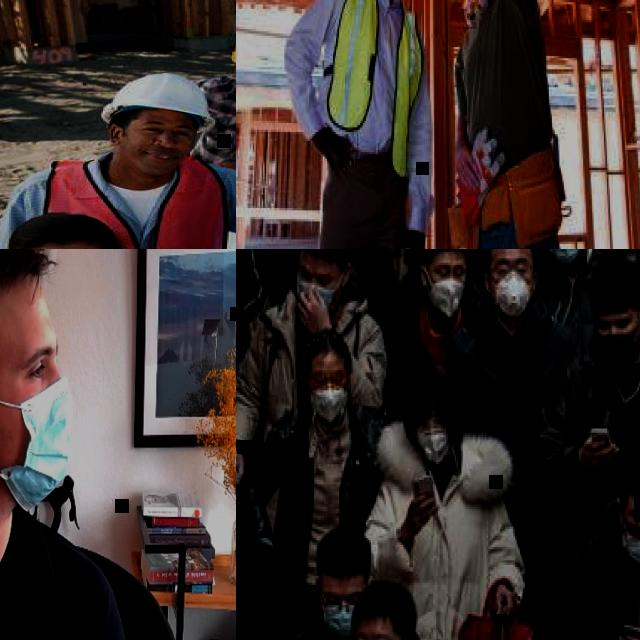Hardhat: (102, 70, 217, 134)
Mask: (0, 377, 74, 513), (488, 272, 534, 320), (593, 327, 640, 365), (294, 279, 339, 315), (424, 276, 464, 316), (310, 386, 350, 424), (320, 600, 356, 638), (417, 432, 449, 466), (548, 249, 584, 265), (625, 533, 640, 571)
NO-Hardhat: (0, 249, 52, 344), (9, 214, 117, 249), (355, 582, 422, 630), (314, 528, 372, 582), (587, 258, 640, 314), (403, 360, 455, 416), (302, 327, 350, 366), (615, 448, 640, 508), (296, 249, 354, 262), (420, 249, 470, 257)
NO-Mask: (110, 141, 184, 180)
NO-Safety Vest: (457, 323, 572, 545), (389, 471, 495, 640), (560, 359, 640, 531), (465, 0, 545, 170), (577, 544, 640, 640), (535, 265, 596, 355), (390, 312, 452, 388), (199, 80, 236, 172), (347, 249, 379, 303)
Person: (0, 249, 142, 640), (453, 249, 577, 640), (367, 359, 521, 640), (0, 69, 236, 249), (236, 249, 386, 528), (246, 326, 380, 621), (281, 0, 433, 249), (528, 258, 640, 542), (493, 446, 640, 640), (452, 0, 564, 249), (383, 249, 493, 430), (267, 249, 394, 345), (274, 527, 375, 640), (303, 582, 488, 640), (525, 249, 603, 362), (192, 24, 236, 174), (381, 249, 510, 285)
Safety Vest: (35, 160, 225, 249), (329, 0, 421, 175)
